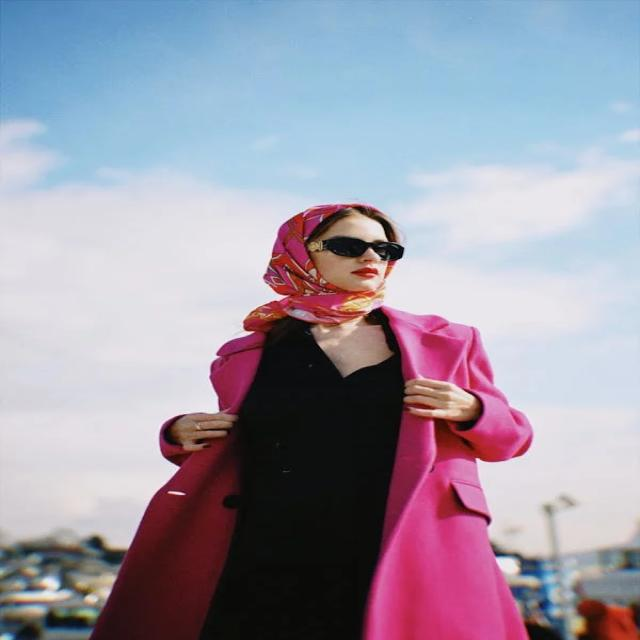Real human 2: (124, 182, 587, 640)
